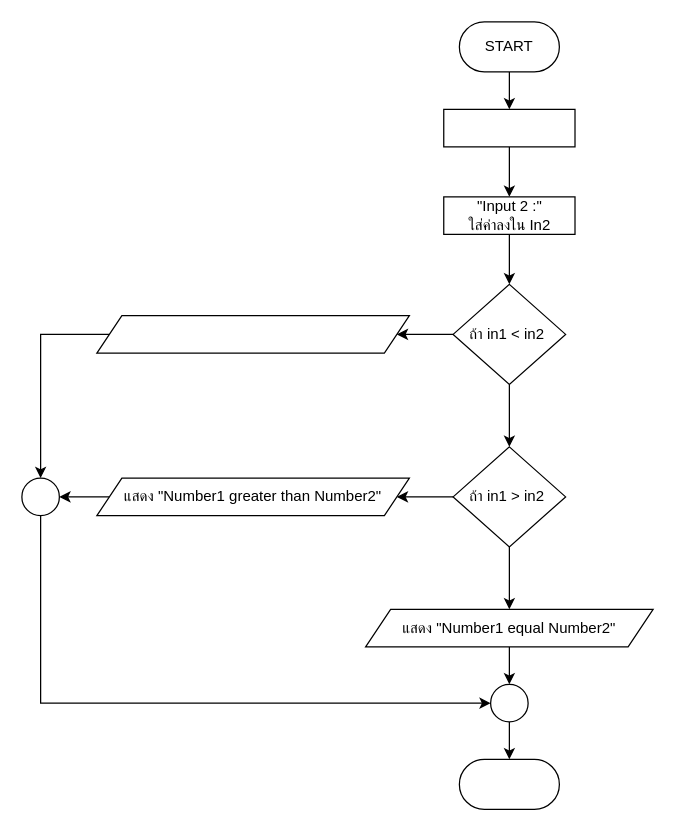
This 675x831 diagram has some shape labels left out. Each missing label, with the centre of its shape:
"Input 1 :" ใส่ค่าลงใน In1: point (508, 127)
END: point (508, 783)
แสดง "Number 1 lower than Number 2": point (252, 333)
